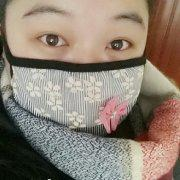OK: (11, 2, 148, 139)
